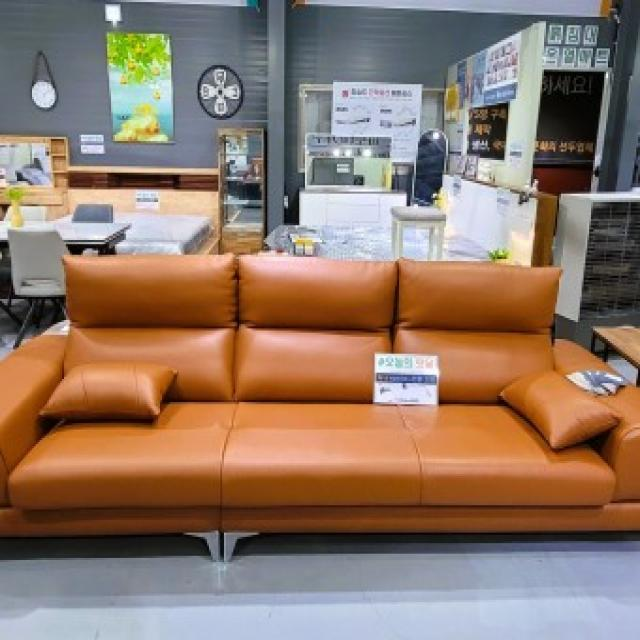Chair: (10, 217, 70, 326), (387, 202, 453, 260)
Sofa: (8, 252, 634, 564)
Table: (4, 208, 130, 250)
